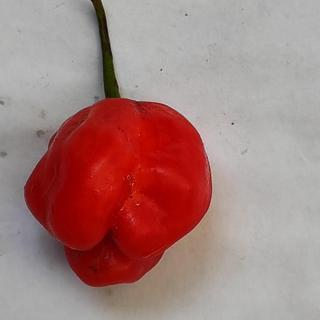Grade-B: (15, 93, 214, 288)
